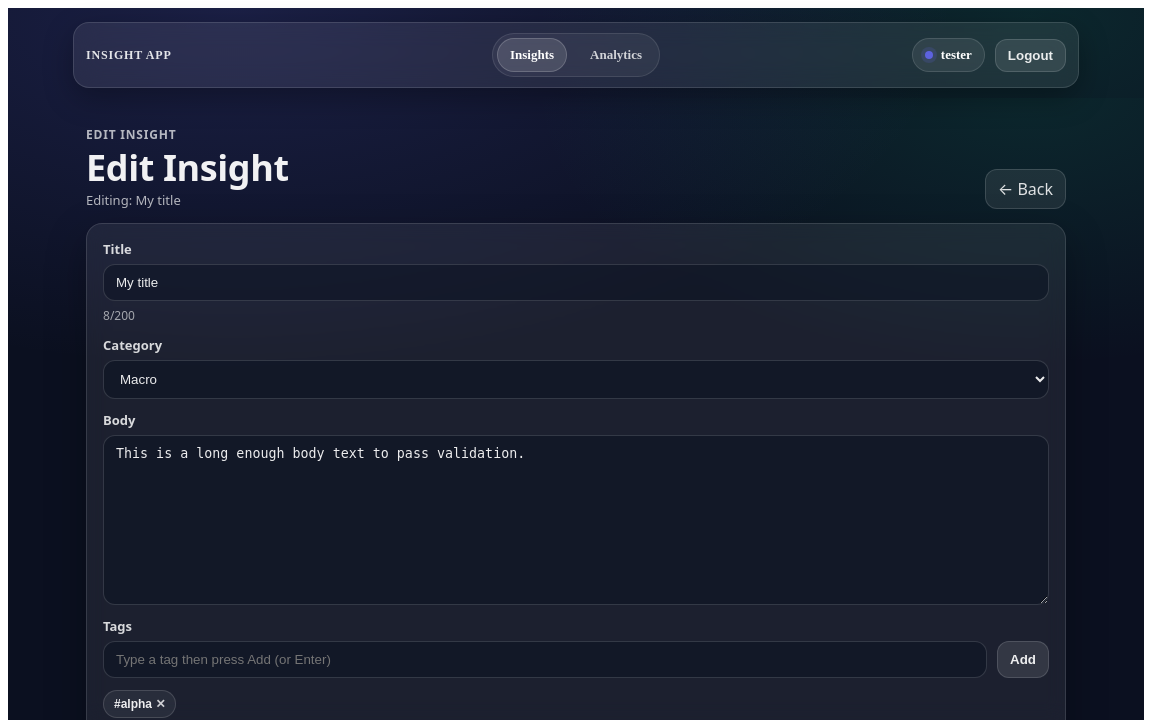
Test: InsightEditPage › loads insight and allows adding/removing tags
Expected: the heading "Edit Insight" is shown, x1=86 y1=149 x2=289 y2=187
Expected: the field showing "My title" is shown, x1=103 y1=264 x2=1049 y2=301
In the field with placeholder "Type a tag then press Add (or Enter)": (545, 659) x1=103 y1=641 x2=987 y2=678, type "#Beta"
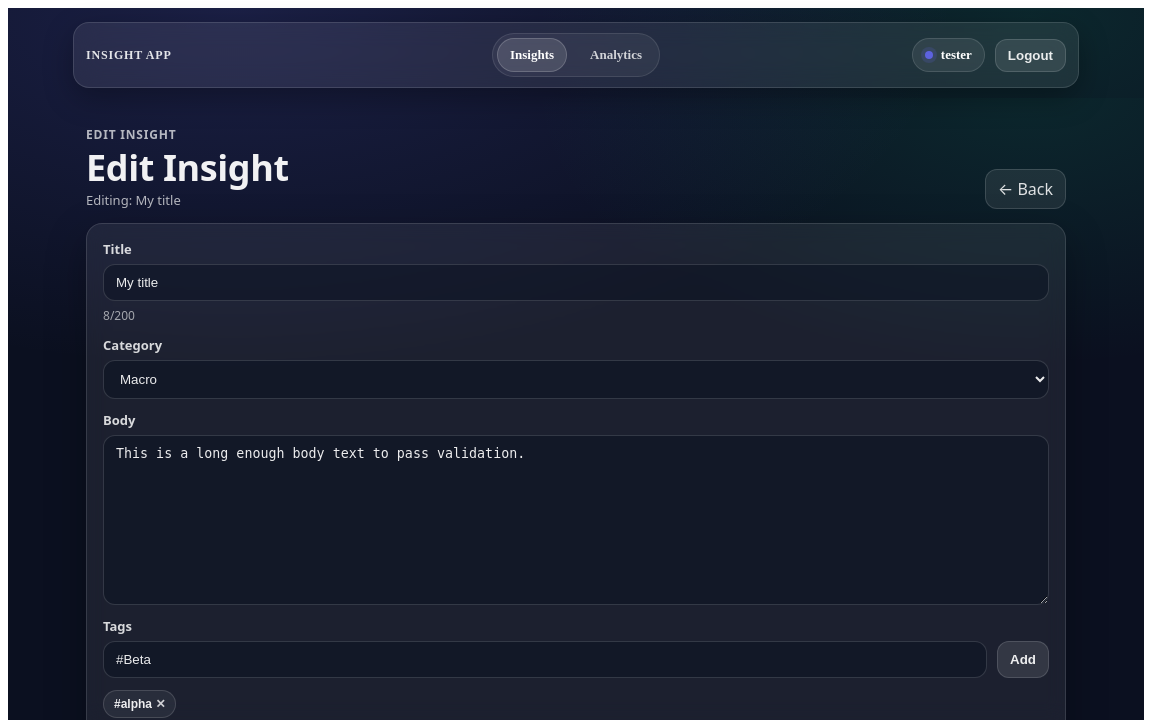
Click the button "Add": (1023, 659) x1=997 y1=641 x2=1049 y2=678
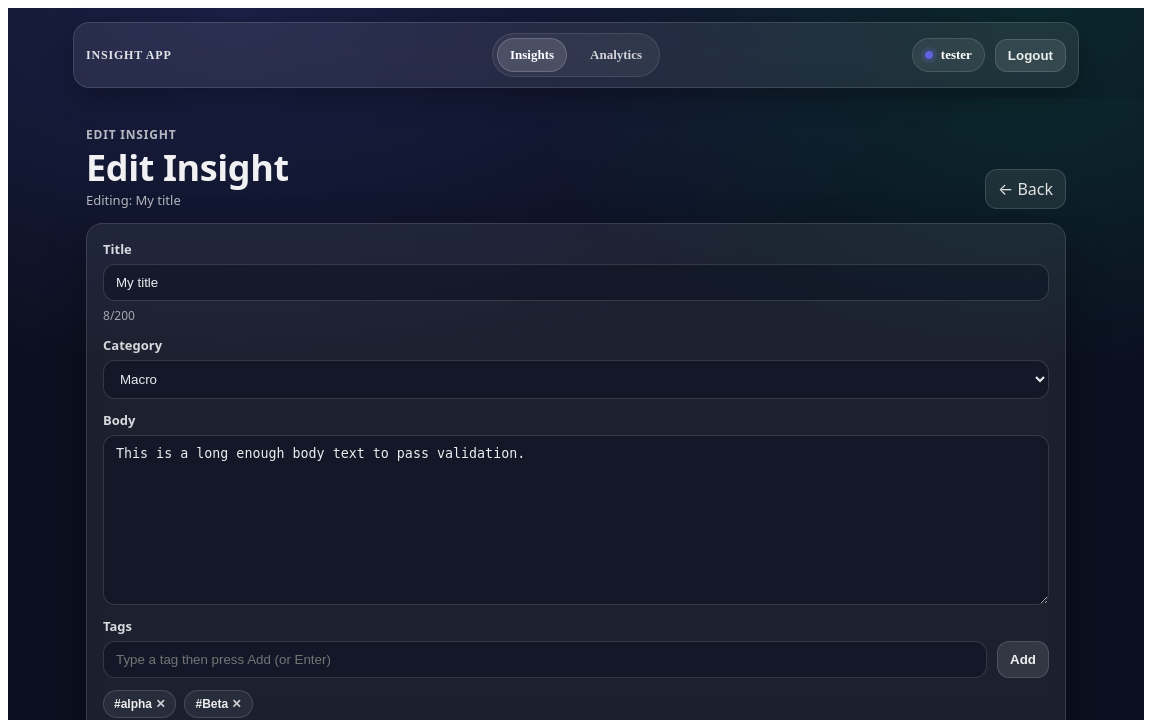
Result: the button "#Beta ✕" is shown at x1=184 y1=690 x2=252 y2=718
In the field with placeholder "Type a tag then press Add (or Enter)": (545, 659) x1=103 y1=641 x2=987 y2=678, type "beta"
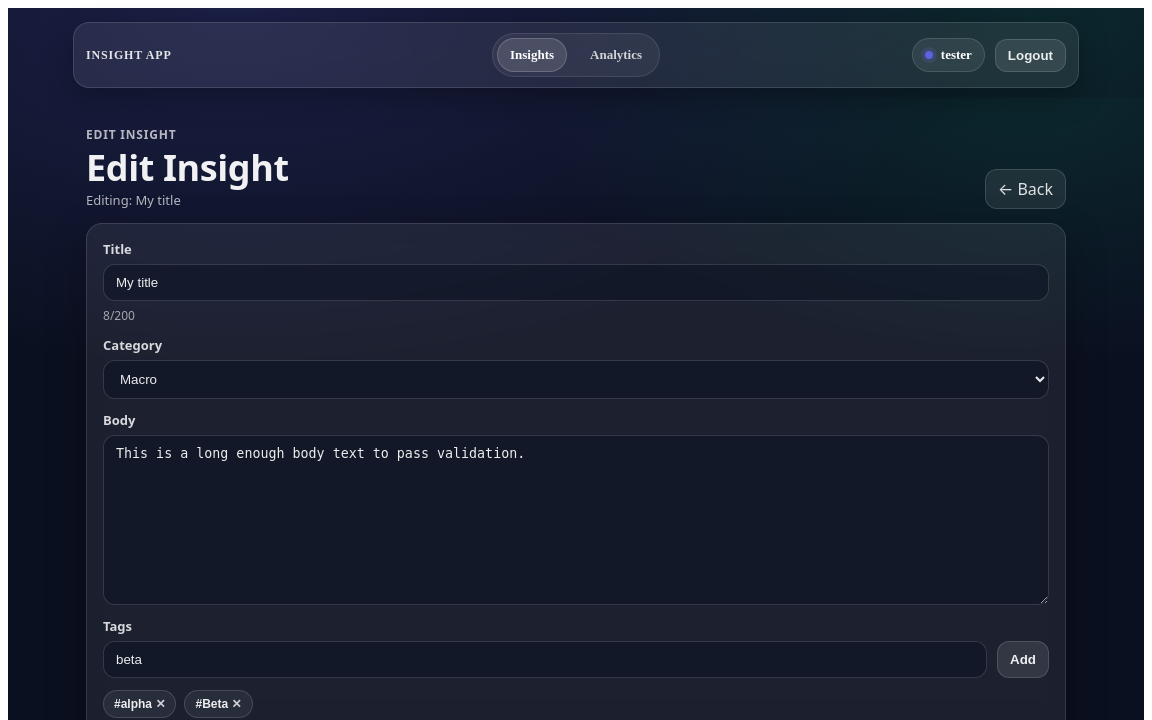
Click the button "Add": (1023, 659) x1=997 y1=641 x2=1049 y2=678
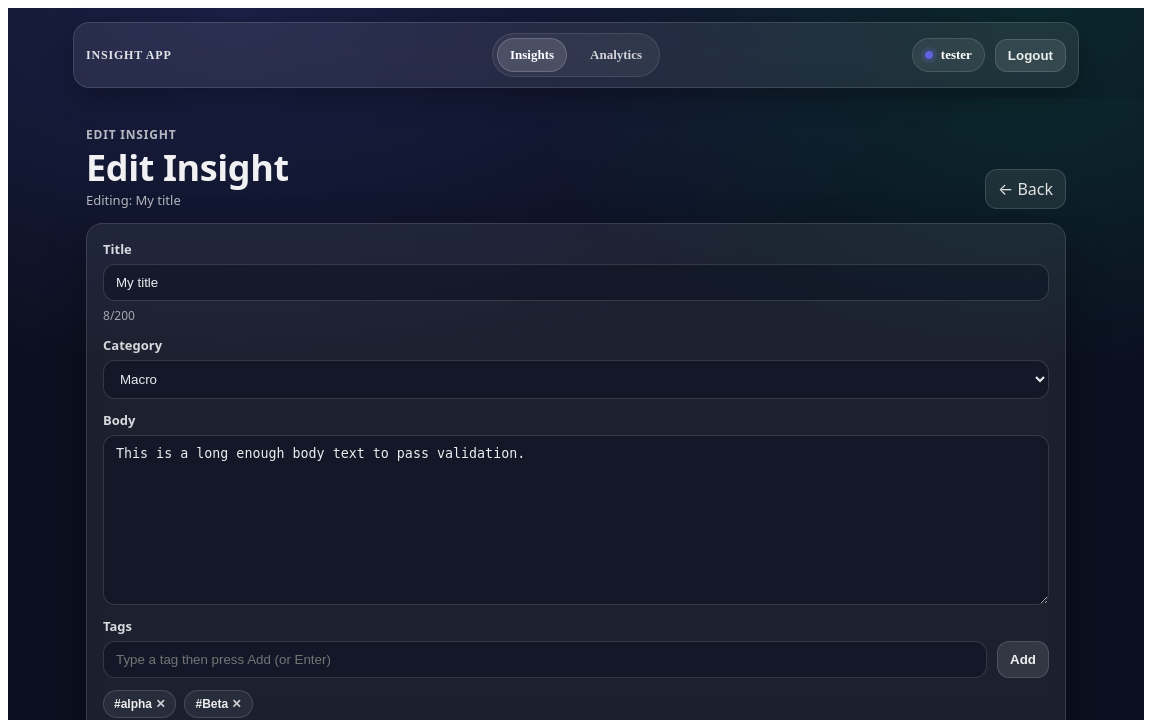
Result: the number of buttons "#Beta ✕" is 1 at x1=184 y1=690 x2=252 y2=718
Click the button "#alpha ✕": (140, 704) x1=103 y1=690 x2=176 y2=718
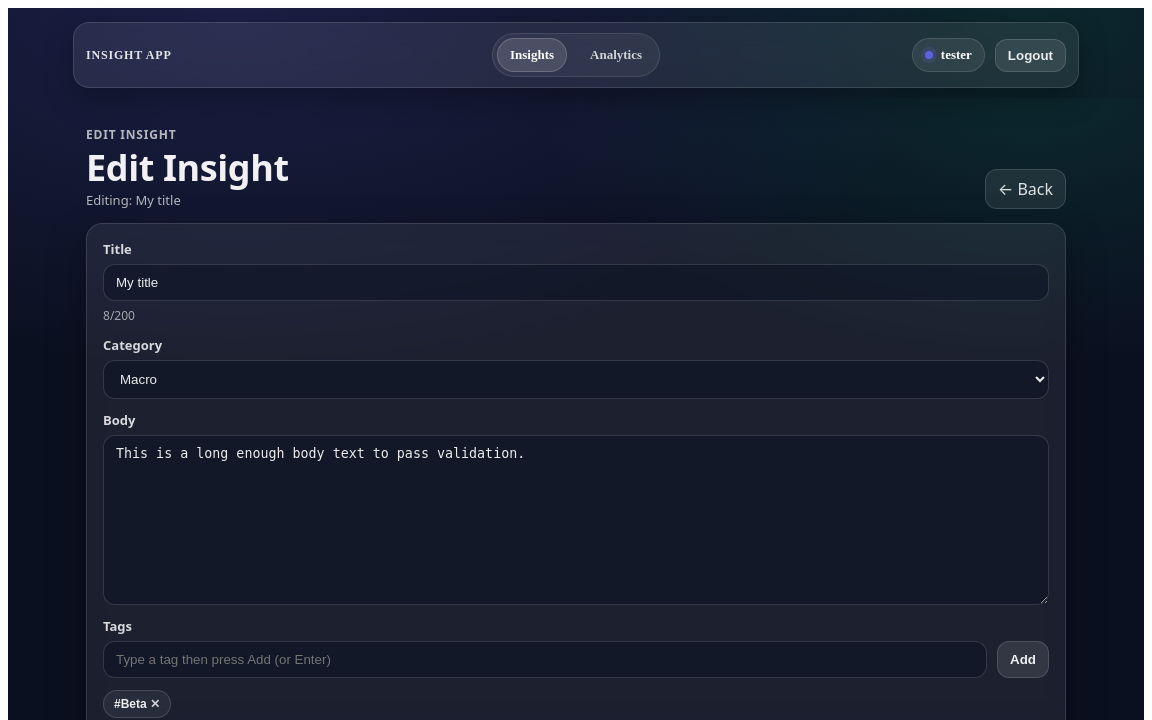
Result: the button "#alpha" is gone
